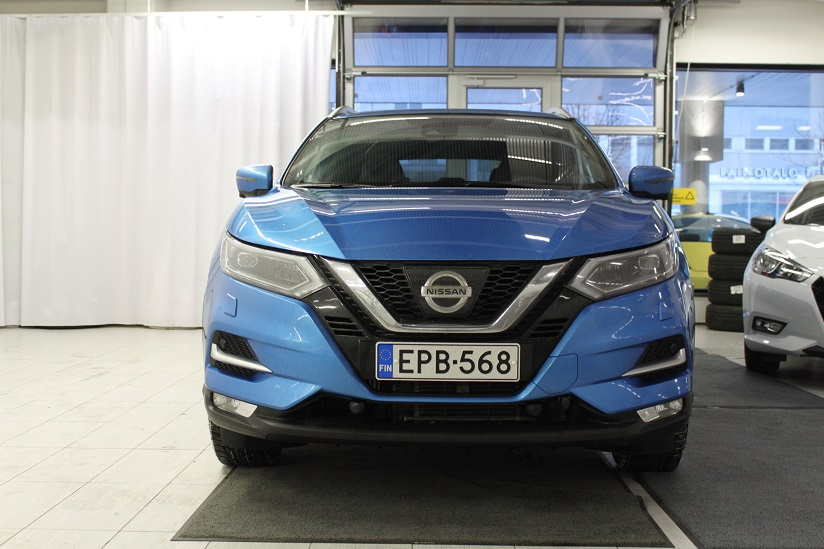license: (368, 336, 515, 387)
